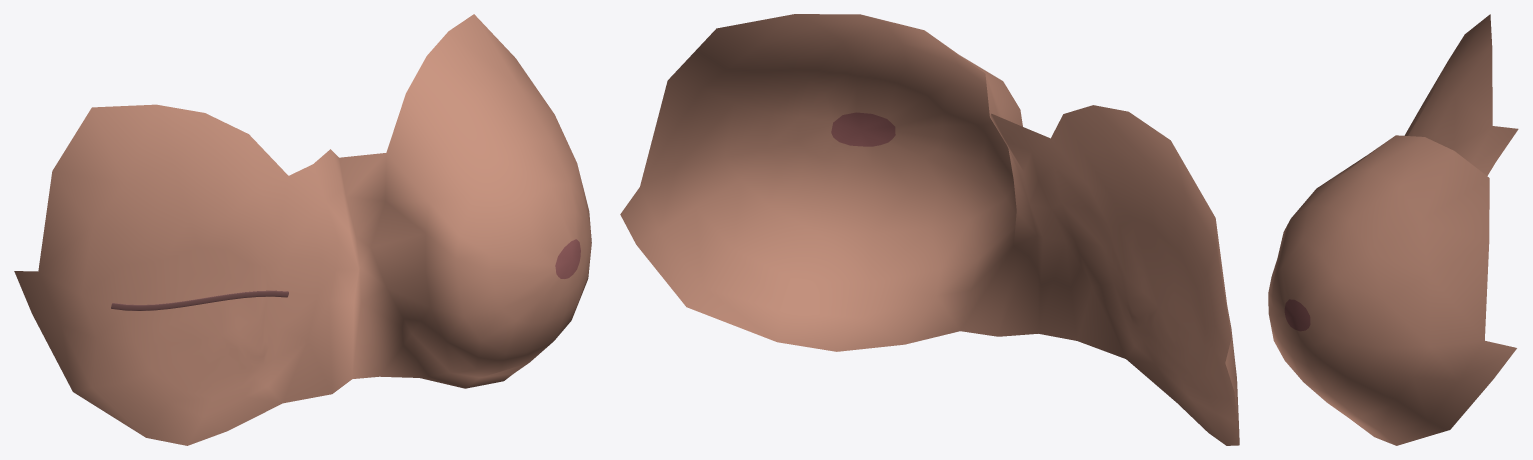
File: Chest_RIGHT.fbx
3 views of the same model, side by side, from view 1: azimuth 30°, elevation 25°; view 2: azimuth 150°, elevation 25°; view 3: azimuth 270°, elevation 25° (orthographic). The views are drawn at different scales.
Visible parts, largest first — view 1: barefoot001.001, Curva_Bezier.001; view 2: barefoot001.001; view 3: barefoot001.001.
Boxes of the visible parts, x1=… form: barefoot001.001: x1=14, y1=14, x2=591, y2=445; Curva_Bezier.001: x1=111, y1=290, x2=288, y2=310; barefoot001.001: x1=620, y1=14, x2=1239, y2=445; barefoot001.001: x1=1268, y1=14, x2=1518, y2=445.
Size of the model in its own units: 2074 by 1239 by 998.
